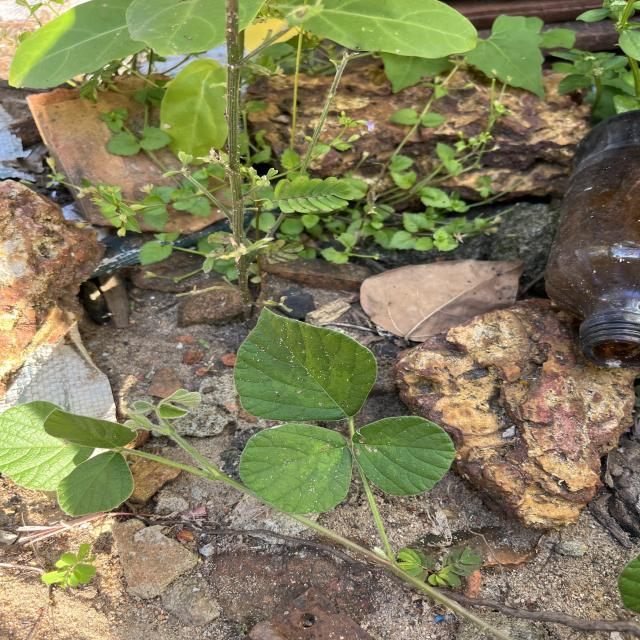Pseudarthria viscida: (232, 304, 459, 516)
